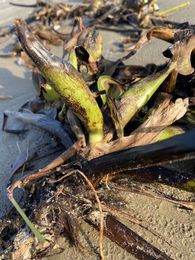water_hyacinth: (13, 1, 194, 160)
